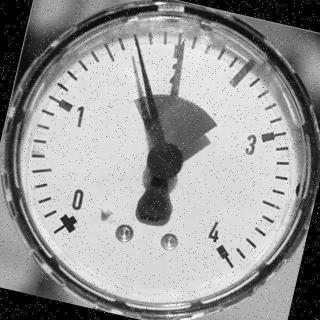gauge: (0, 0, 320, 320), (146, 140, 184, 182), (46, 208, 88, 242), (207, 236, 240, 266), (174, 34, 190, 54), (128, 30, 142, 46)
